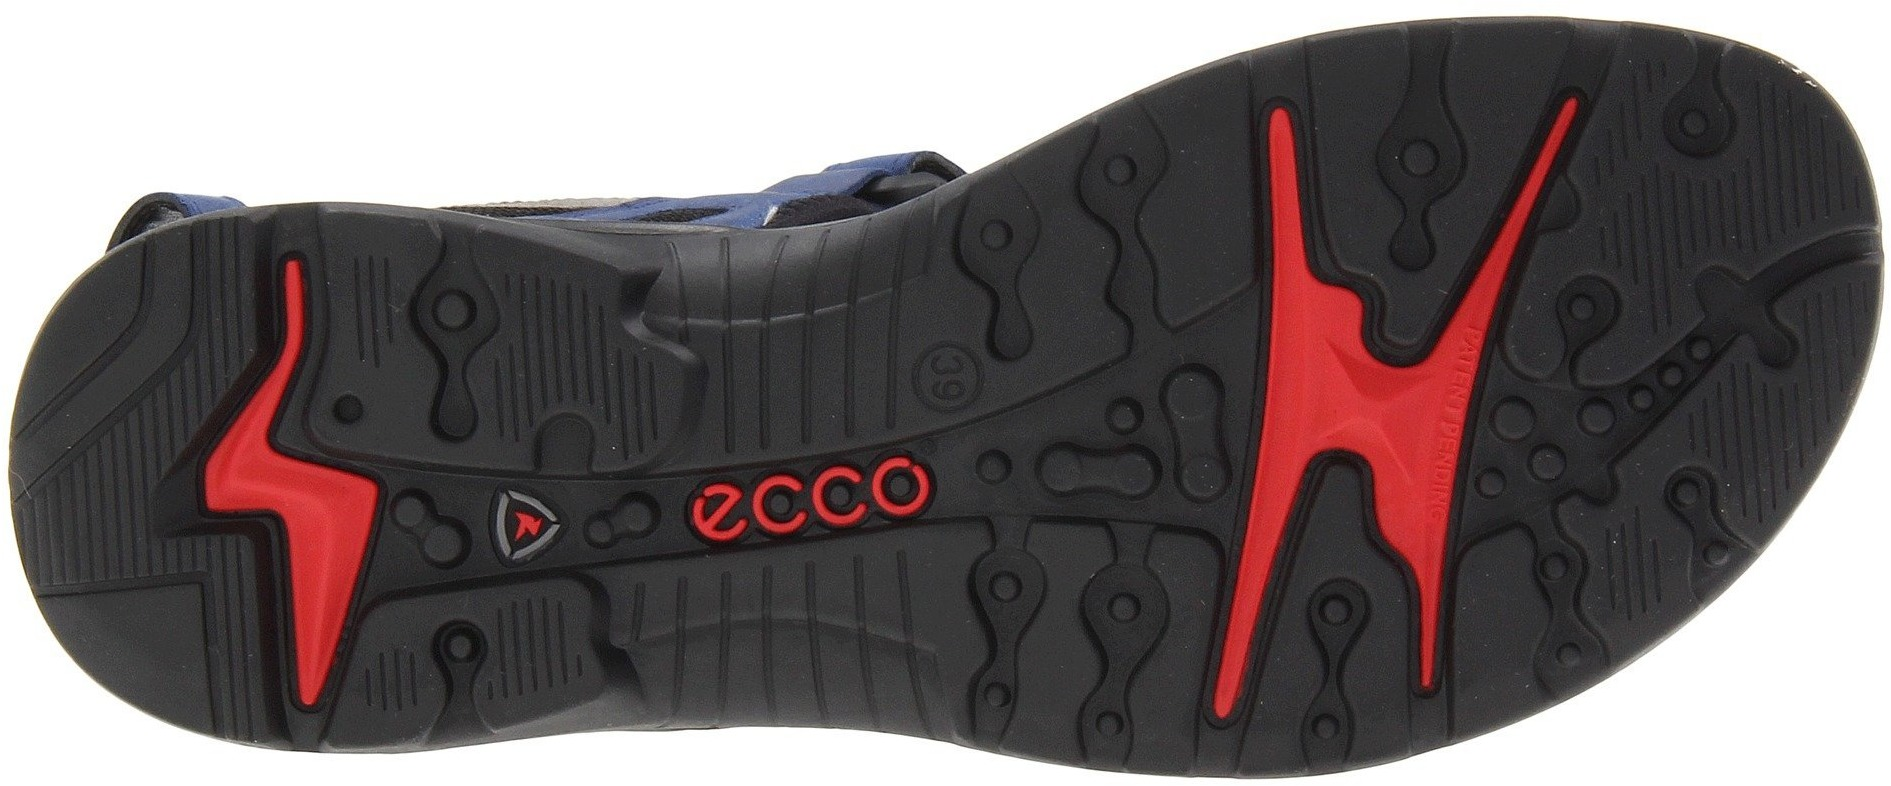circle: (146, 250, 416, 515), (1031, 338, 1251, 535), (415, 240, 637, 417), (1643, 55, 1823, 253), (804, 430, 939, 557), (1469, 388, 1592, 512), (903, 338, 989, 417), (1387, 121, 1454, 196), (420, 272, 488, 344), (1097, 582, 1153, 635)
exclude: (0, 0, 1249, 281)
line: (146, 250, 416, 515), (415, 240, 637, 417), (1643, 55, 1823, 253), (710, 250, 894, 444), (734, 556, 911, 723)
other: (1247, 285, 1498, 520), (46, 469, 154, 581), (526, 319, 611, 404)
ribbon: (1165, 594, 1301, 733), (1376, 599, 1500, 725)
text: (804, 430, 939, 557), (683, 451, 807, 569), (921, 348, 973, 404)
triangle: (482, 479, 570, 571)
